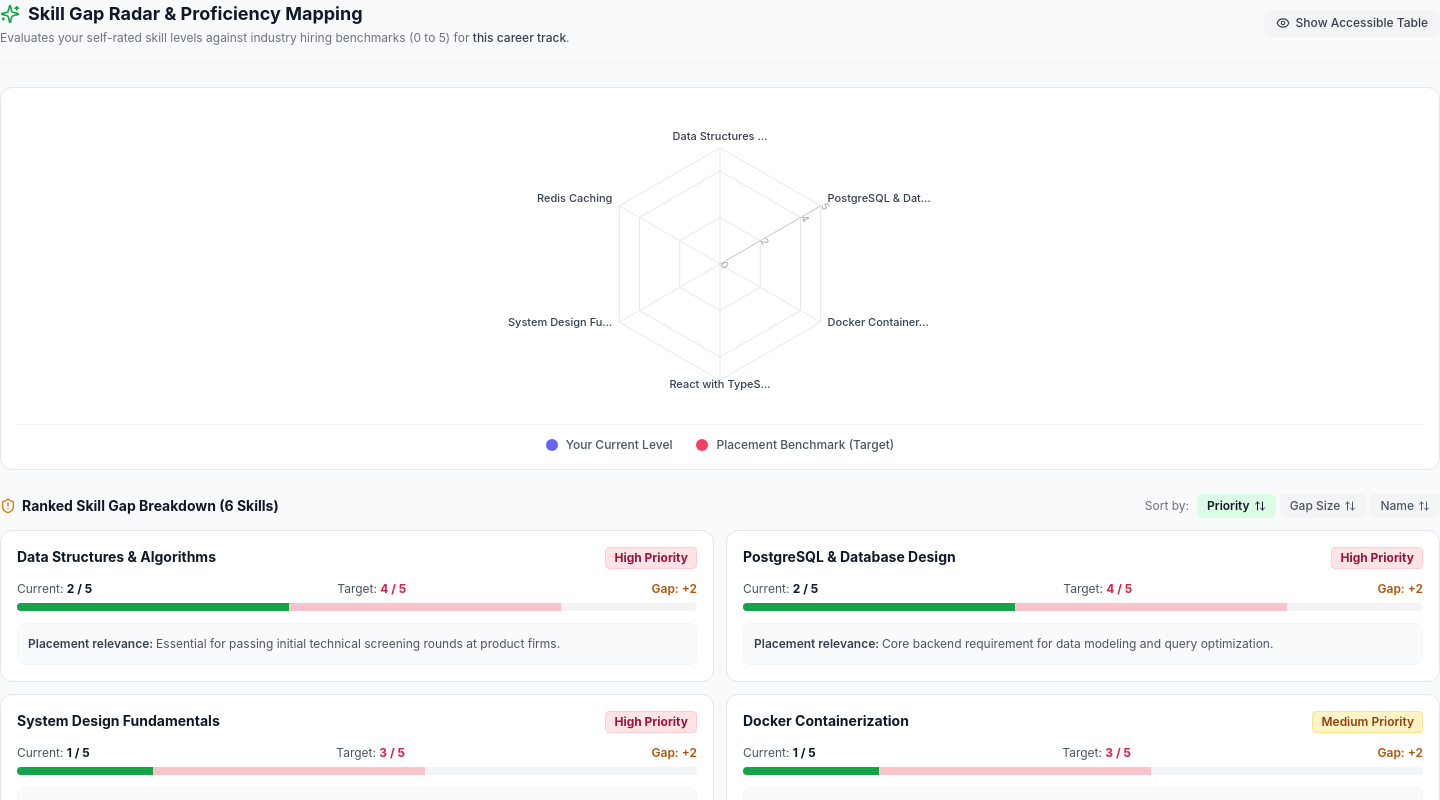
Test: Phase 3 Component Tests › SkillGapRadar › toggles accessible table fallback with semantic table markup
Click the button with aria-label "show accessible table view" at (1352, 23), box [1264,9,1439,37]
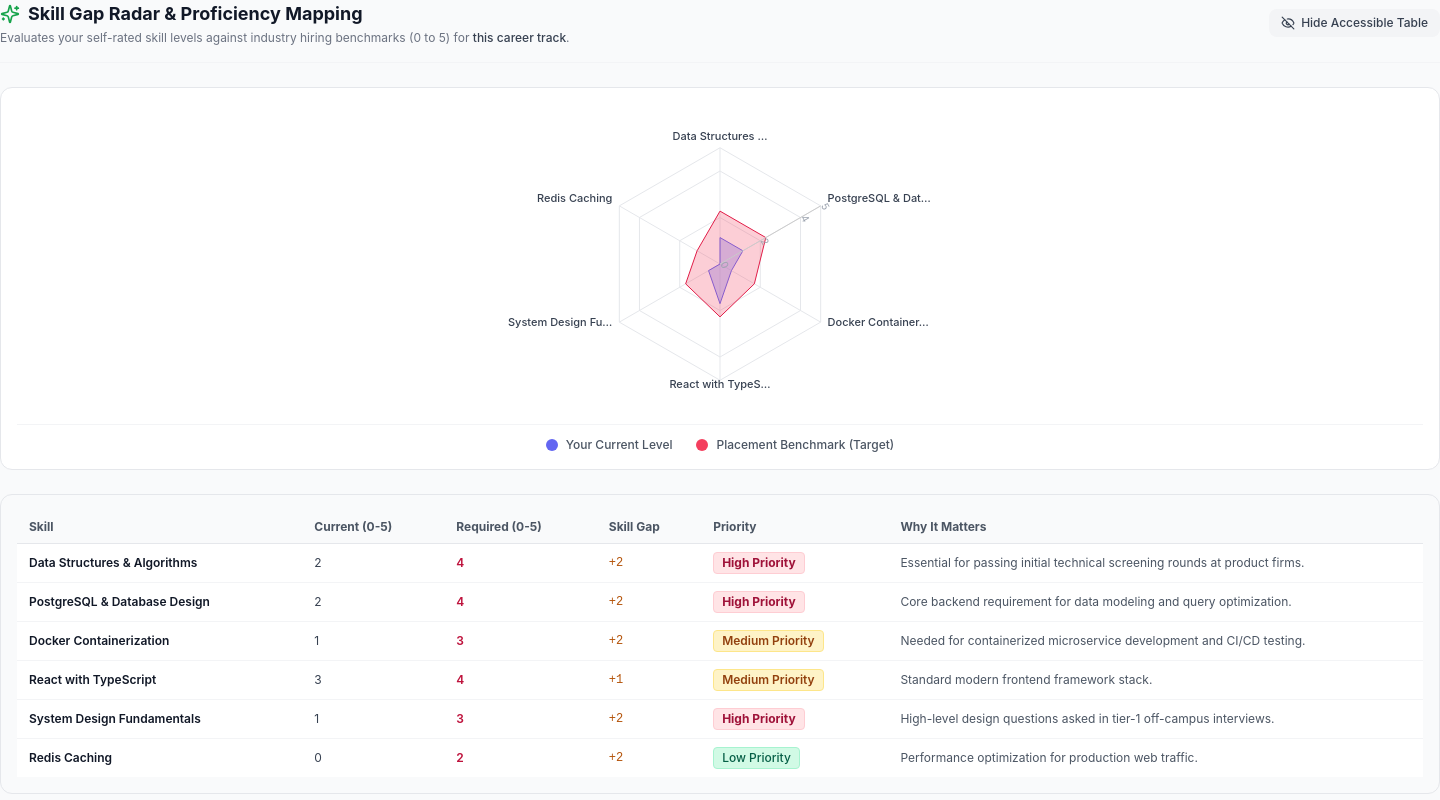
Check: the table named "skill gap benchmark table" is shown, box [17,511,1423,777]
Check: the text "Data Structures & Algorithms" is shown, box [17,544,302,582]
